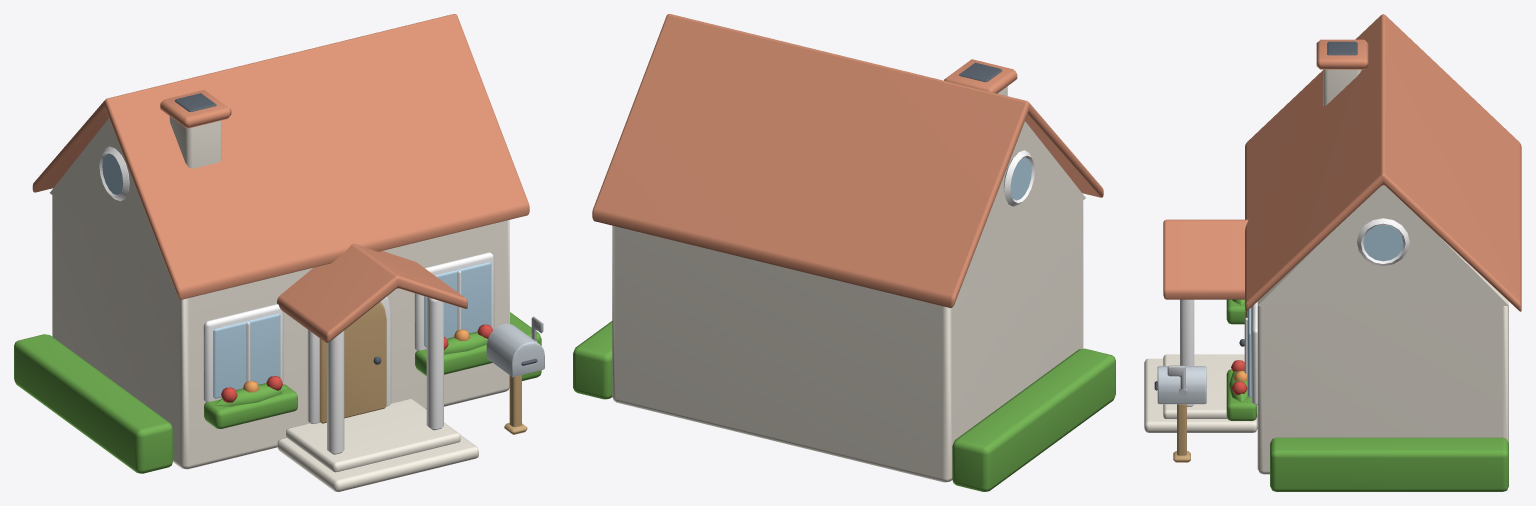
Rendered from town_house.glb.
3 renders of one model, left to right at view 1: azimuth 30°, elevation 25°; view 2: azimuth 150°, elevation 25°; view 3: azimuth 270°, elevation 25°, orthographic. The views are drawn at different scales.
Parts seen in each view (by area): view 1: roof, walls, porch, hedges, front_windows, porch_roof, door, gables, flower_boxes, chimney, mailbox, gable_windows; view 2: roof, walls, hedges, gables, chimney, gable_windows; view 3: roof, walls, gables, hedges, porch_roof, porch, chimney, mailbox, gable_windows, flower_boxes, front_windows.
Part boxes in pixels (x1,y1,x2,y2): roof: [32, 14, 529, 299]; walls: [52, 195, 509, 469]; porch: [277, 297, 478, 491]; hedges: [14, 312, 541, 473]; front_windows: [203, 252, 494, 402]; porch_roof: [277, 243, 467, 342]; door: [307, 296, 391, 423]; gables: [50, 118, 172, 282]; flower_boxes: [204, 324, 492, 428]; chimney: [160, 90, 231, 168]; mailbox: [486, 323, 544, 434]; gable_windows: [99, 146, 129, 201]; roof: [592, 14, 1103, 307]; walls: [612, 200, 1083, 482]; hedges: [573, 321, 1115, 491]; gables: [960, 121, 1085, 290]; chimney: [944, 59, 1017, 95]; gable_windows: [1003, 150, 1034, 206]; roof: [1245, 14, 1521, 311]; walls: [1257, 306, 1508, 474]; gables: [1257, 185, 1508, 305]; hedges: [1270, 437, 1508, 491]; porch_roof: [1163, 219, 1248, 299]; porch: [1144, 299, 1257, 432]; chimney: [1316, 39, 1368, 106]; mailbox: [1154, 366, 1206, 462]; gable_windows: [1357, 218, 1409, 265]; flower_boxes: [1226, 299, 1256, 420]; front_windows: [1244, 302, 1257, 405].
Bounding box in the file's own units: 7 × 5.4 × 6.
